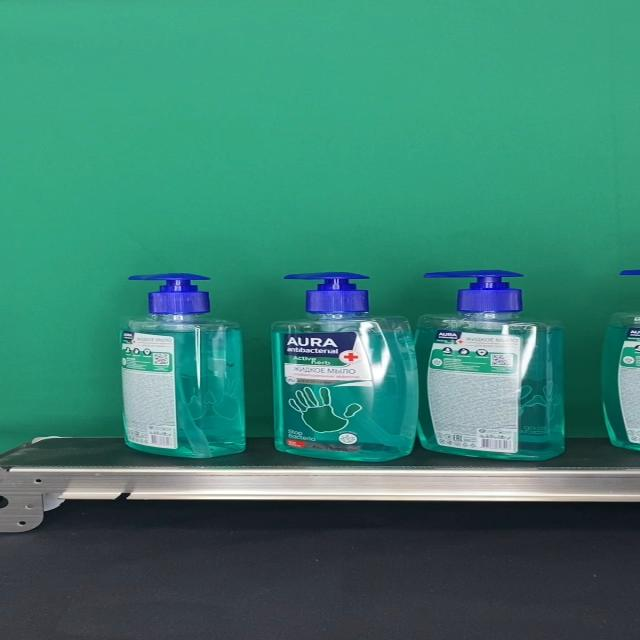Bottle: (414, 270, 564, 461), (269, 272, 418, 462), (118, 273, 246, 459)
Cap: (422, 270, 524, 313), (282, 272, 370, 313), (128, 273, 212, 314)
